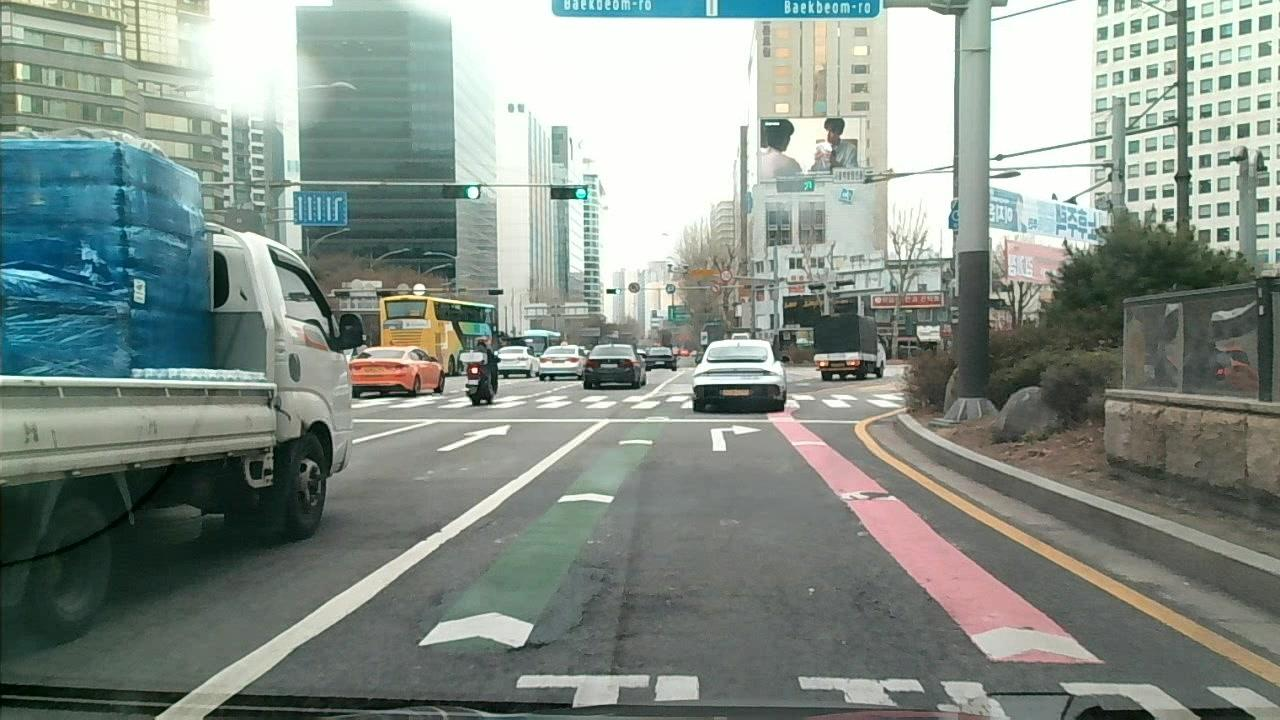vcrack: (562, 549, 614, 644)
